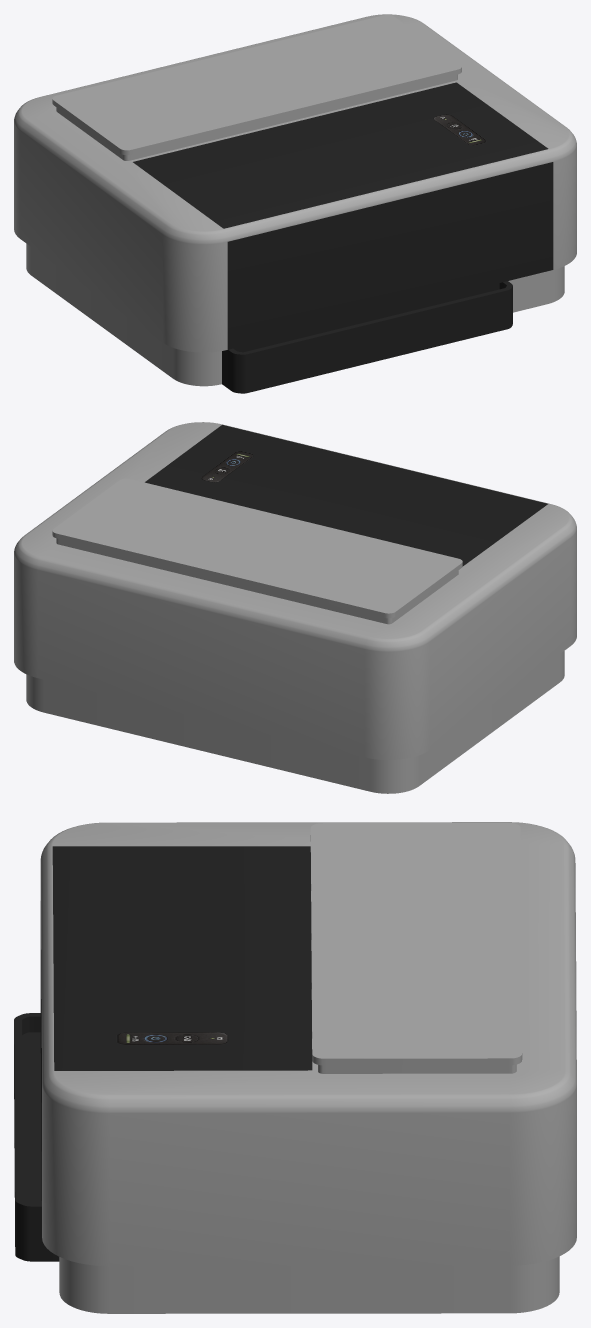
File: Printer.FBX
3 renders of one model, top to bottom at view 1: azimuth 30°, elevation 25°; view 2: azimuth 150°, elevation 25°; view 3: azimuth 270°, elevation 25°, orthographic. The views are drawn at different scales.
Parts seen in each view (by area): view 1: Printer; view 2: Printer; view 3: Printer.
Part boxes in pixels (x1,y1,x2,y2): Printer: (14, 14, 576, 393); Printer: (14, 422, 576, 793); Printer: (14, 822, 576, 1313).
Size of the model in its own units: 38.47 by 15.19 by 32.42.
Materials: 1 (1 with a texture image).
